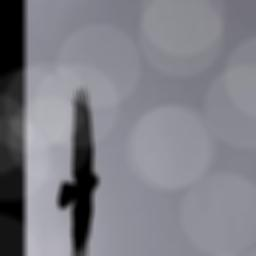Crow: (57, 84, 98, 256)
